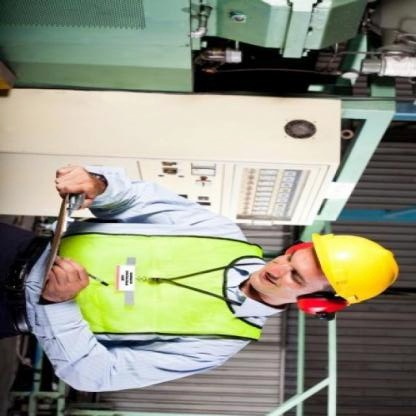vest: (57, 230, 270, 354)
yellow: (307, 220, 407, 322)
